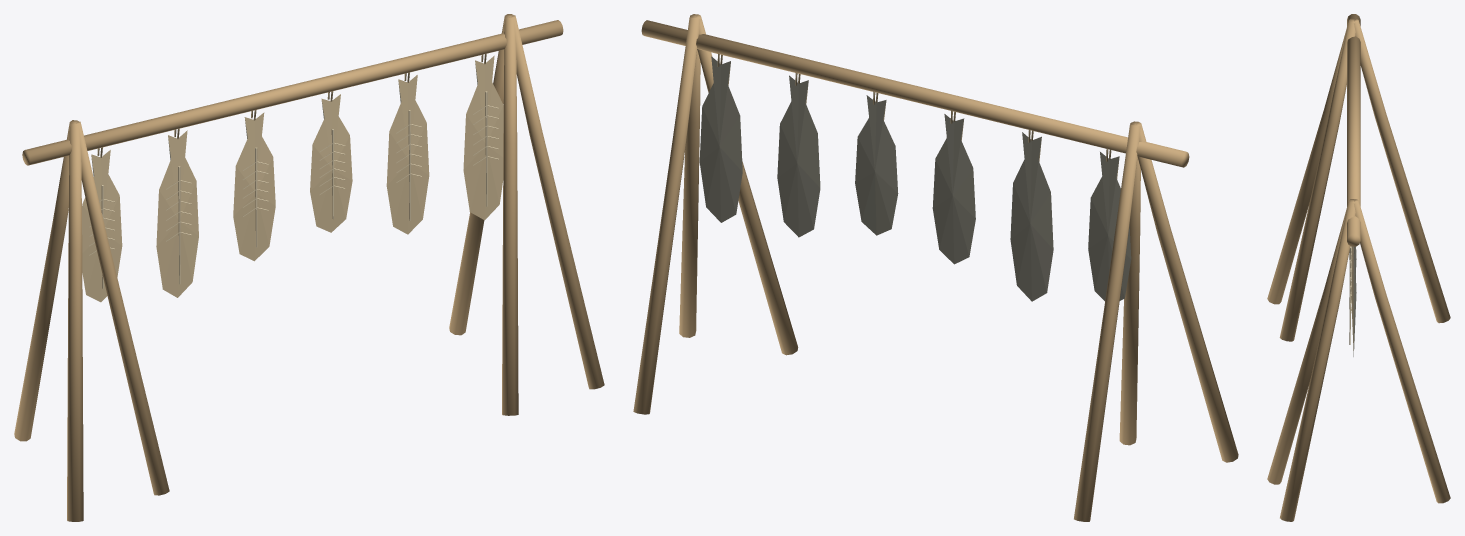
File: fish_rack.glb
3 views of the same model, side by side, from view 1: azimuth 30°, elevation 25°; view 2: azimuth 150°, elevation 25°; view 3: azimuth 270°, elevation 25° (orthographic). The views are drawn at different scales.
Parts seen in each view (by area): view 1: peeled_poles, six_split_fish; view 2: peeled_poles, six_split_fish; view 3: peeled_poles, six_split_fish.
Boxes of the visible parts, left/top/right/bottom form: peeled_poles: left=14, top=14, right=604, bottom=521; six_split_fish: left=82, top=55, right=503, bottom=302; peeled_poles: left=633, top=14, right=1238, bottom=521; six_split_fish: left=699, top=56, right=1131, bottom=301; peeled_poles: left=1267, top=14, right=1450, bottom=521; six_split_fish: left=1349, top=246, right=1356, bottom=356.
Size of the model in its own units: 2.55 by 1.59 by 0.8777.
